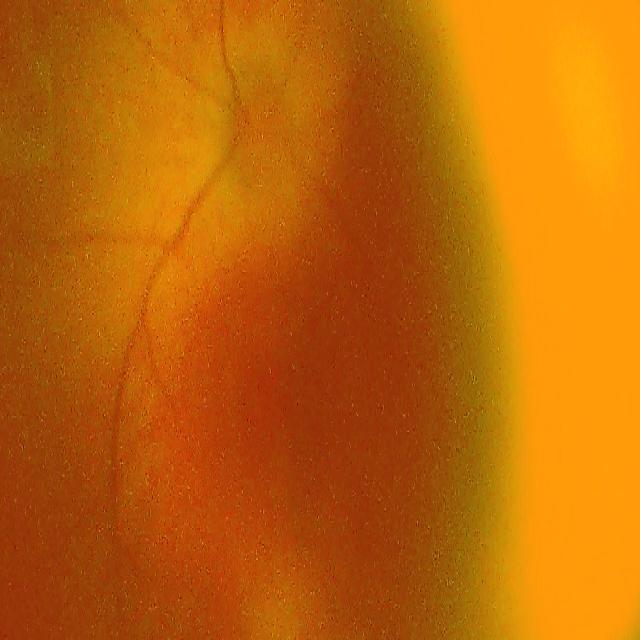optic-nerve: (208, 44, 306, 196)
